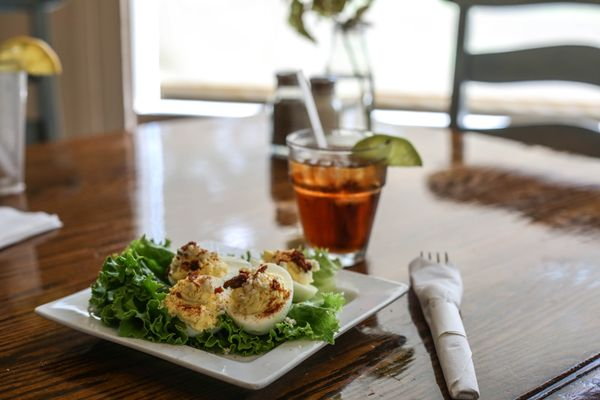pizza: (286, 127, 389, 267)
